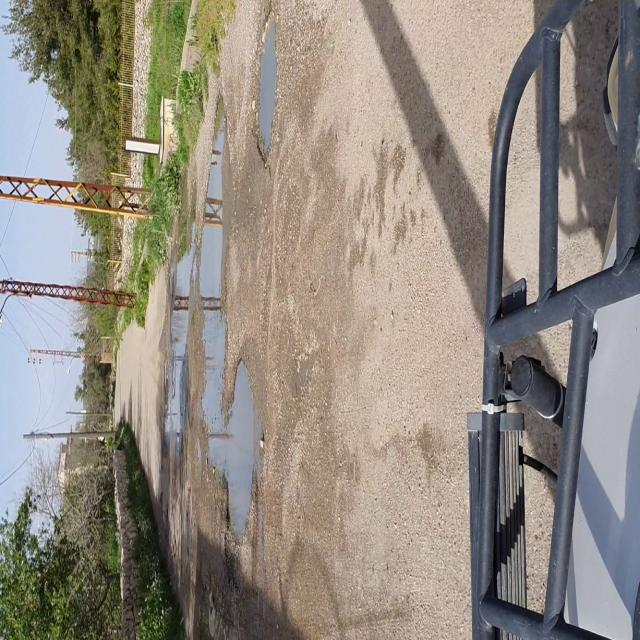Pothole: (224, 355, 258, 546), (199, 99, 229, 250), (253, 8, 281, 162)
